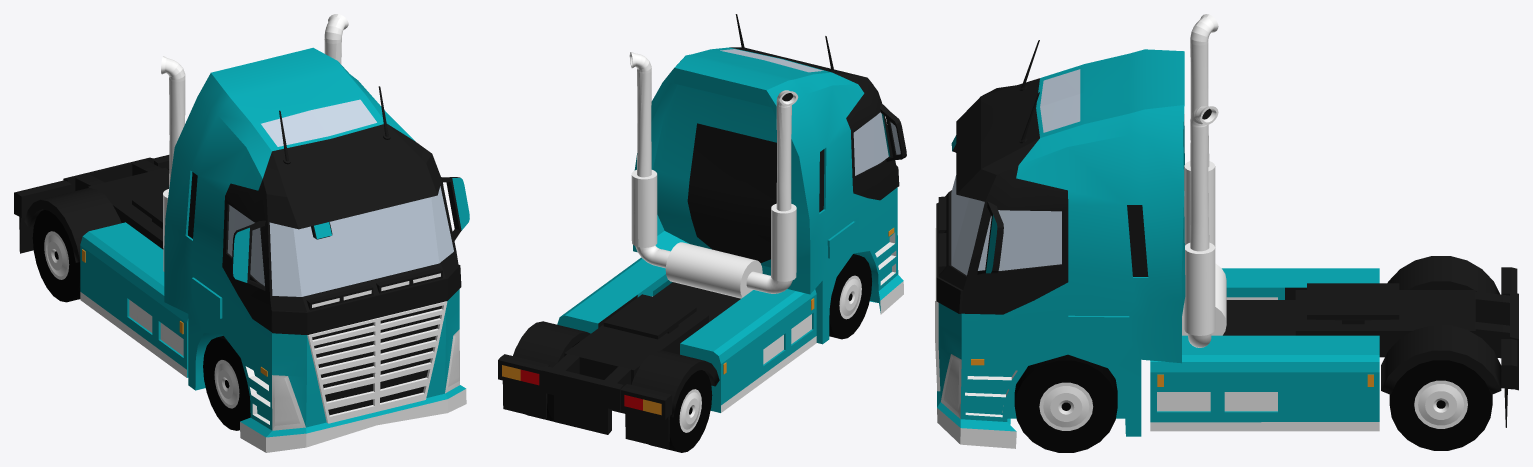
File: Volvo truck without trailer.fbx
3 views of the same model, side by side, from view 1: azimuth 30°, elevation 25°; view 2: azimuth 150°, elevation 25°; view 3: azimuth 270°, elevation 25° (orthographic). The views are drawn at different scales.
Parts seen in each view (by area): view 1: body, boxs, front right wheel, back right wheel, arches, tubes, mirrors; view 2: body, boxs, tubes, arches, front right wheel, back right wheel, mirrors; view 3: body, boxs, tubes, front left wheel, arches, back left wheel, mirrors.
Part boxes in pixels (<box>): body: <box>14,47,466,452</box>; boxs: <box>80,222,188,377</box>; front right wheel: <box>203,336,250,430</box>; back right wheel: <box>32,210,80,302</box>; arches: <box>24,169,169,262</box>; tubes: <box>161,14,348,271</box>; mirrors: <box>231,177,469,290</box>; body: <box>498,47,903,449</box>; boxs: <box>557,257,816,412</box>; tubes: <box>629,52,798,298</box>; arches: <box>513,321,719,417</box>; front right wheel: <box>829,254,871,339</box>; back right wheel: <box>649,370,712,452</box>; mirrors: <box>880,103,906,161</box>; body: <box>935,49,1518,448</box>; boxs: <box>1150,268,1379,431</box>; tubes: <box>1182,14,1226,347</box>; front left wheel: <box>1014,354,1117,452</box>; arches: <box>1381,256,1501,394</box>; back left wheel: <box>1389,360,1492,450</box>; mirrors: <box>977,201,1003,274</box>.
Size of the model in its own units: 277 by 359 by 550.
